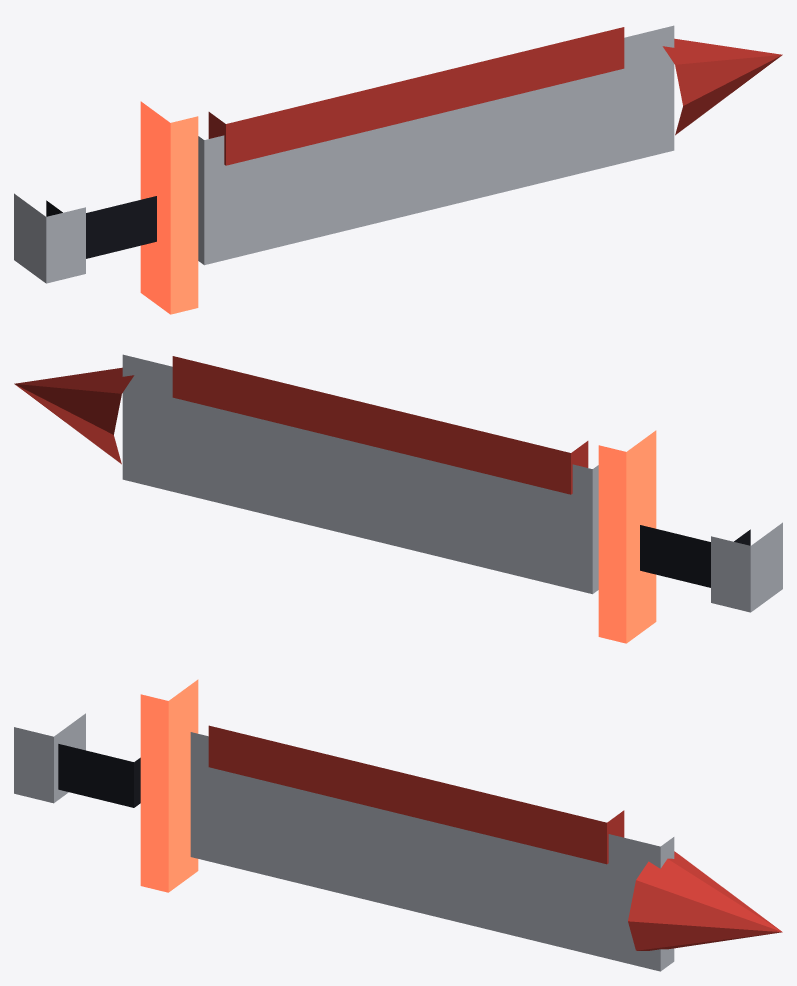
The model's file is daedalus.glb.
3 views of the same model, one above another, from view 1: azimuth 30°, elevation 25°; view 2: azimuth 150°, elevation 25°; view 3: azimuth 330°, elevation 25° (orthographic).
Parts seen in each view (by area): view 1: daedalus-blade, daedalus-crystal-edge, daedalus-guard, daedalus-tip, daedalus-pommel, daedalus-grip; view 2: daedalus-blade, daedalus-crystal-edge, daedalus-guard, daedalus-tip, daedalus-pommel, daedalus-grip; view 3: daedalus-blade, daedalus-crystal-edge, daedalus-guard, daedalus-tip, daedalus-grip, daedalus-pommel.
Part boxes in pixels (x1=…): daedalus-blade: x1=198, y1=25, x2=674, y2=265; daedalus-crystal-edge: x1=208, y1=27, x2=624, y2=165; daedalus-guard: x1=140, y1=101, x2=198, y2=314; daedalus-tip: x1=662, y1=38, x2=782, y2=135; daedalus-pommel: x1=14, y1=193, x2=85, y2=283; daedalus-grip: x1=46, y1=196, x2=156, y2=258; daedalus-blade: x1=122, y1=354, x2=598, y2=594; daedalus-crystal-edge: x1=172, y1=356, x2=588, y2=494; daedalus-guard: x1=598, y1=430, x2=656, y2=643; daedalus-tip: x1=14, y1=367, x2=134, y2=464; daedalus-pommel: x1=711, y1=522, x2=782, y2=612; daedalus-grip: x1=640, y1=525, x2=750, y2=587; daedalus-blade: x1=190, y1=732, x2=674, y2=971; daedalus-crystal-edge: x1=208, y1=725, x2=624, y2=864; daedalus-guard: x1=140, y1=679, x2=198, y2=892; daedalus-tip: x1=628, y1=851, x2=782, y2=950; daedalus-grip: x1=58, y1=744, x2=140, y2=807; daedalus-pommel: x1=14, y1=713, x2=85, y2=803.
Bounding box in the file's own units: 1.89 × 0.46 × 0.24.
